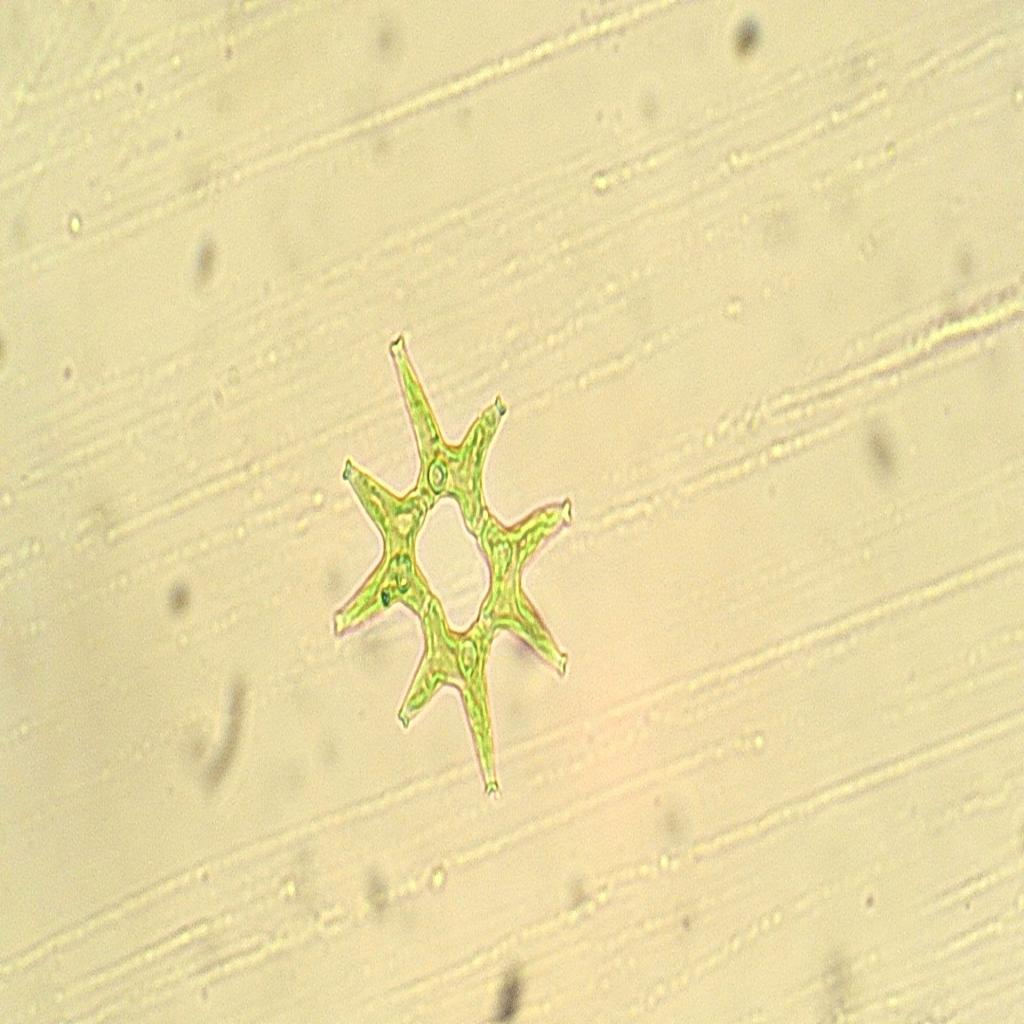Pediastrum_75O: (310, 313, 590, 819)
